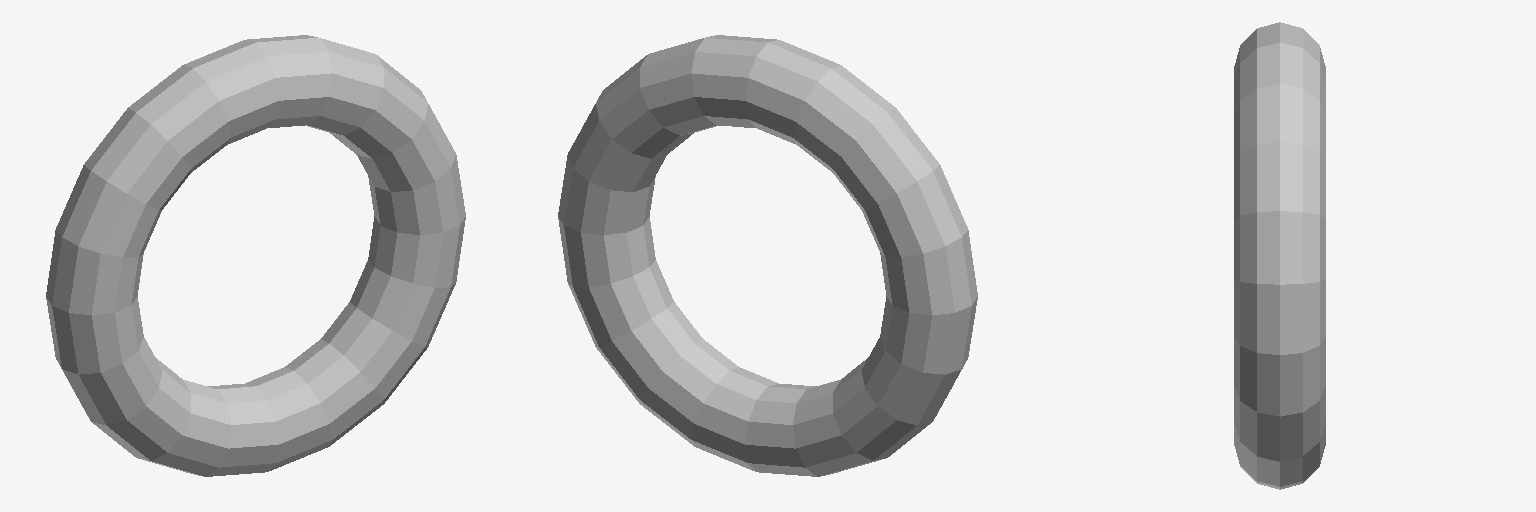
Rendered from tunnel_3.obj.
3 renders of one model, left to right at view 1: azimuth 30°, elevation 25°; view 2: azimuth 150°, elevation 25°; view 3: azimuth 270°, elevation 25°, orthographic.
Visible parts, largest first — view 1: pTorus1; view 2: pTorus1; view 3: pTorus1.
Part boxes in pixels (left/top/right/bottom): pTorus1: left=46, top=35, right=465, bottom=476; pTorus1: left=558, top=35, right=977, bottom=476; pTorus1: left=1234, top=22, right=1325, bottom=489.
Bounding box in the file's own units: 9.75 × 9.75 × 1.9.